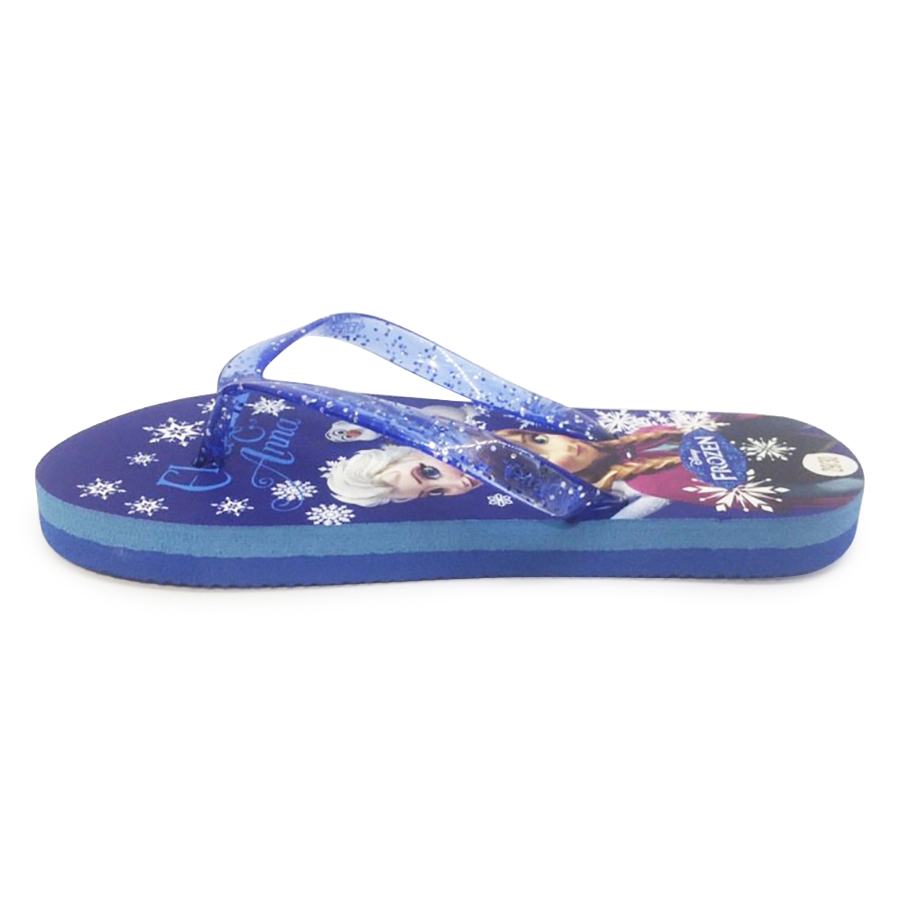Disney: (679, 440, 713, 480)
